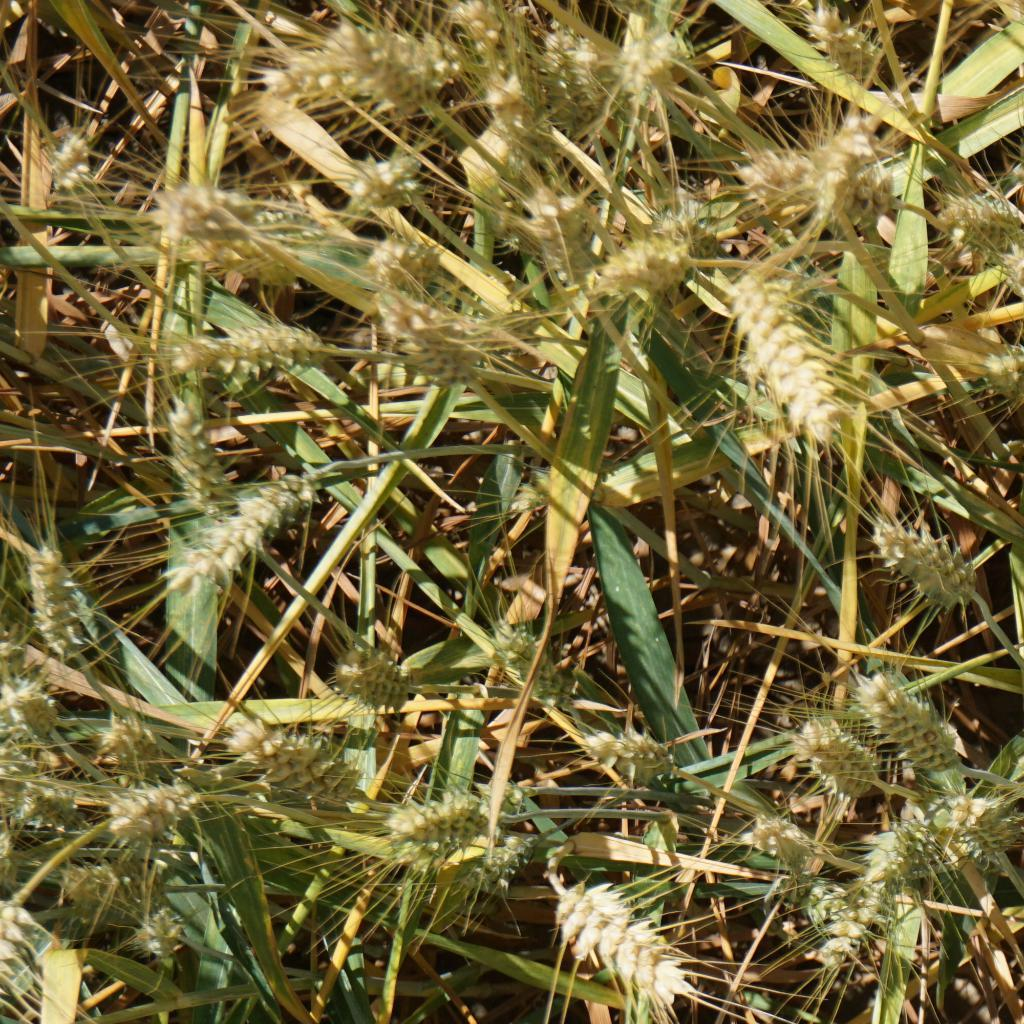0-0: (154, 460, 334, 604), (261, 21, 462, 126), (728, 270, 851, 436), (145, 378, 263, 551), (554, 884, 702, 1008), (156, 306, 344, 393), (368, 778, 538, 871), (224, 707, 372, 813), (729, 264, 840, 386), (518, 171, 606, 309), (780, 133, 899, 232), (478, 54, 566, 185), (135, 176, 265, 264), (856, 672, 972, 768), (17, 538, 108, 655), (484, 187, 576, 302), (367, 287, 477, 378), (490, 614, 585, 717), (484, 452, 623, 520), (563, 712, 684, 788), (877, 523, 978, 614), (48, 850, 176, 920), (446, 830, 562, 905), (91, 711, 193, 793), (320, 641, 428, 717), (587, 224, 692, 300), (523, 15, 598, 118), (102, 776, 206, 850), (936, 179, 1022, 268), (802, 716, 886, 802), (442, 774, 542, 845), (802, 0, 887, 83), (222, 203, 345, 258), (804, 879, 891, 956), (446, 1, 531, 79), (187, 224, 287, 288), (726, 119, 807, 195), (372, 236, 464, 300), (604, 22, 678, 96), (351, 156, 438, 216), (42, 124, 107, 202), (776, 857, 851, 923), (941, 790, 1011, 854), (0, 674, 62, 745), (888, 804, 944, 881), (12, 779, 82, 835), (746, 806, 816, 860), (135, 908, 194, 965), (987, 329, 1024, 399), (1008, 243, 1024, 313)
